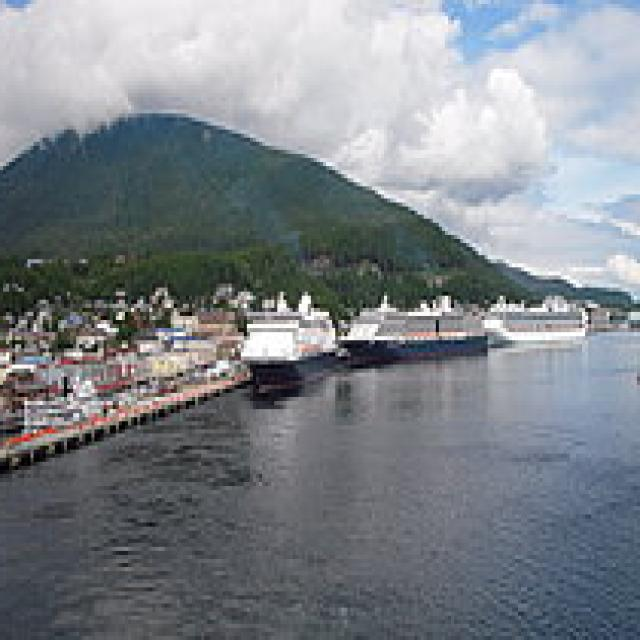Cruise: (335, 284, 494, 361), (241, 283, 344, 385), (484, 288, 598, 344)
